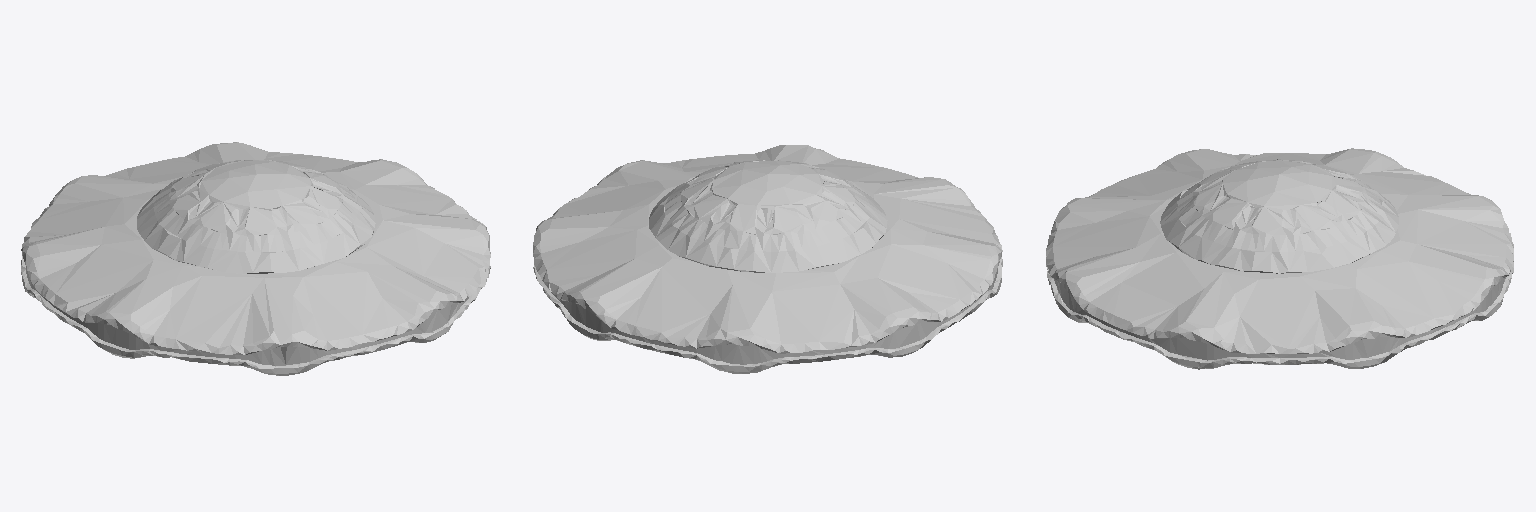
Rendered from frame_037.obj.
The picture shows the model from 3 angles: view 1: azimuth 30°, elevation 25°; view 2: azimuth 150°, elevation 25°; view 3: azimuth 270°, elevation 25°; orthographic projection.
Parts seen in each view (by area): view 1: 13884_UFO_Saucer_v1_l2; view 2: 13884_UFO_Saucer_v1_l2; view 3: 13884_UFO_Saucer_v1_l2.
Part boxes in pixels (left/top/right/bottom): 13884_UFO_Saucer_v1_l2: left=21, top=142, right=490, bottom=375; 13884_UFO_Saucer_v1_l2: left=533, top=145, right=1002, bottom=373; 13884_UFO_Saucer_v1_l2: left=1046, top=148, right=1513, bottom=369.
Size of the model in its own units: 12.69 by 4.88 by 12.7.